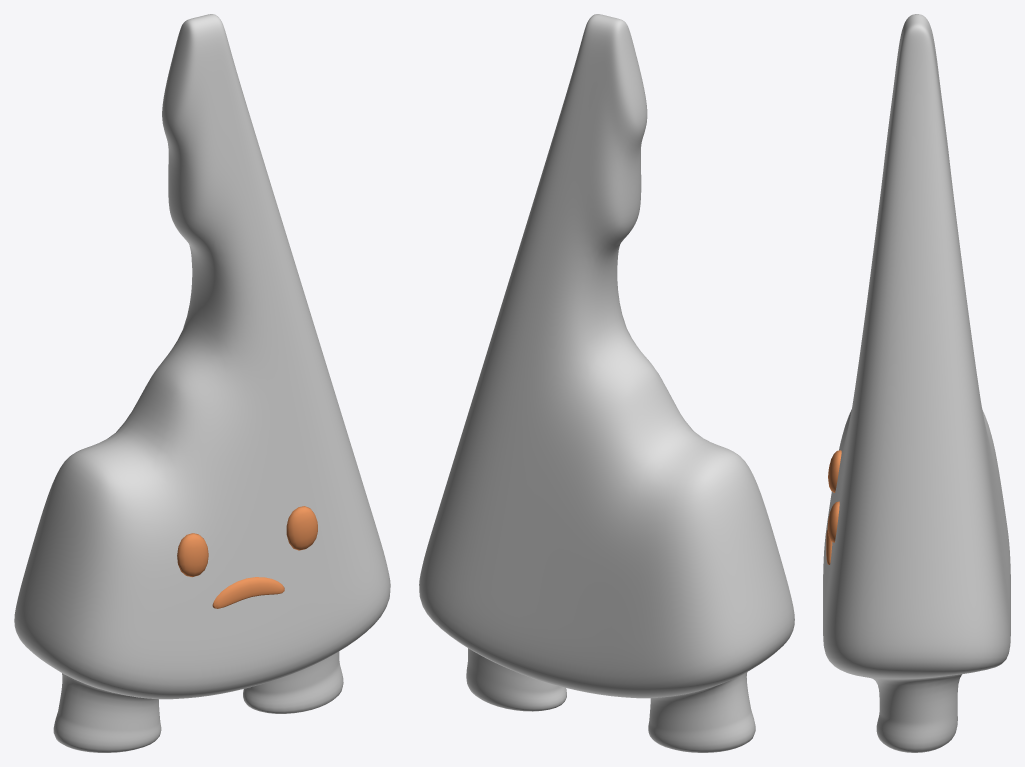
File: Unkaese.fbx
The picture shows the model from 3 angles, left to right: view 1: azimuth 30°, elevation 25°; view 2: azimuth 150°, elevation 25°; view 3: azimuth 270°, elevation 25°; orthographic projection. The views are drawn at different scales.
Parts seen in each view (by area): view 1: Cube.033; view 2: Cube.033; view 3: Cube.033.
Boxes of the visible parts, x1,y1,x2,y2 form: Cube.033: (14, 14, 390, 752); Cube.033: (419, 14, 794, 752); Cube.033: (823, 14, 1010, 752).
Bounding box in the file's own units: 66.23 × 131 × 33.05.
